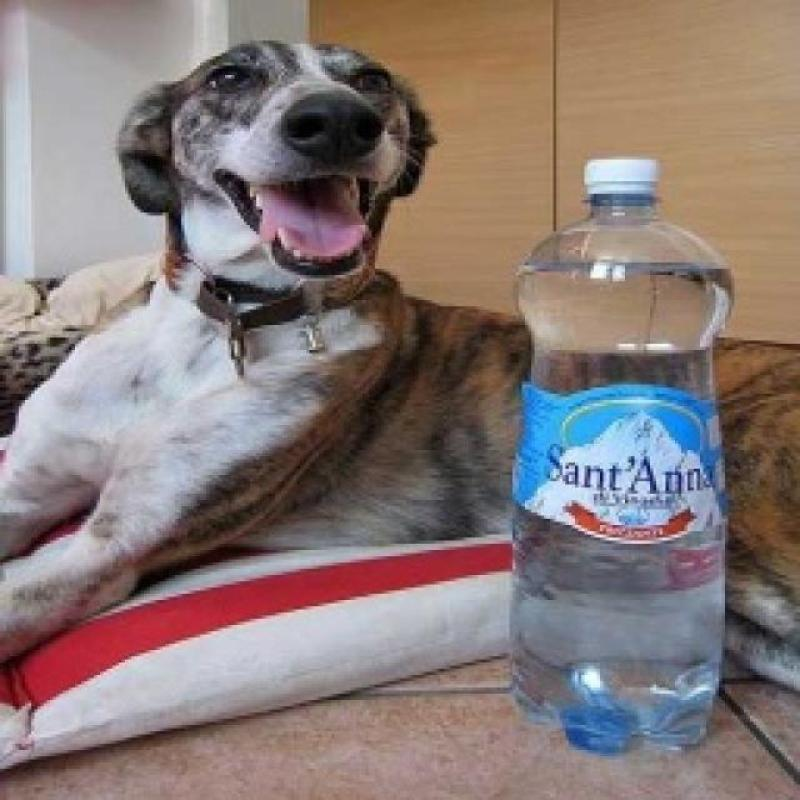botella: (506, 155, 735, 755)
